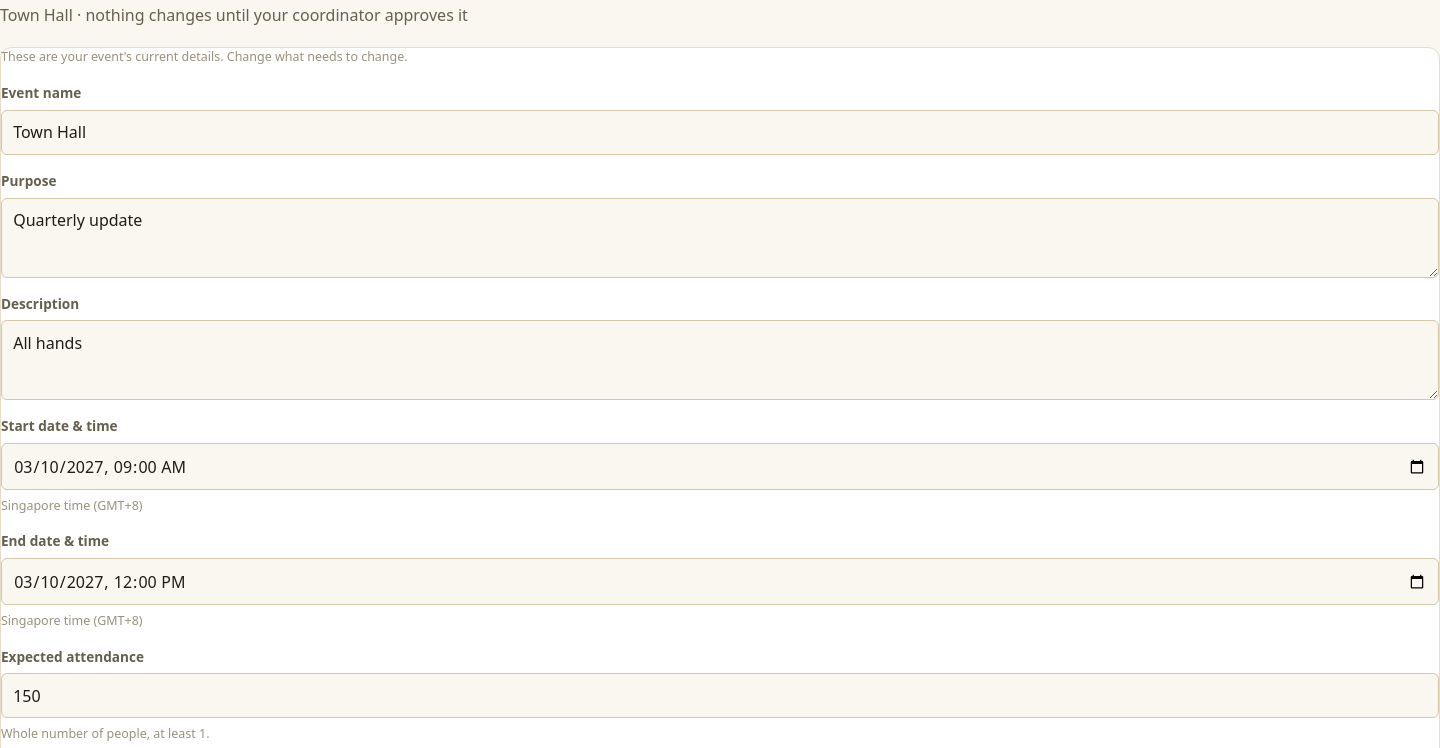
Test case: EO03 — the organiser requests a change › EO03 AC25 (happy): sending posts the full details and opens the change requests with a confirmation
The image size is (1440, 748).
Replace the text in the number field labelled "Expected attendance" with "200" at (720, 696), box x1=1 y1=673 x2=1439 y2=718
(page scrolled)
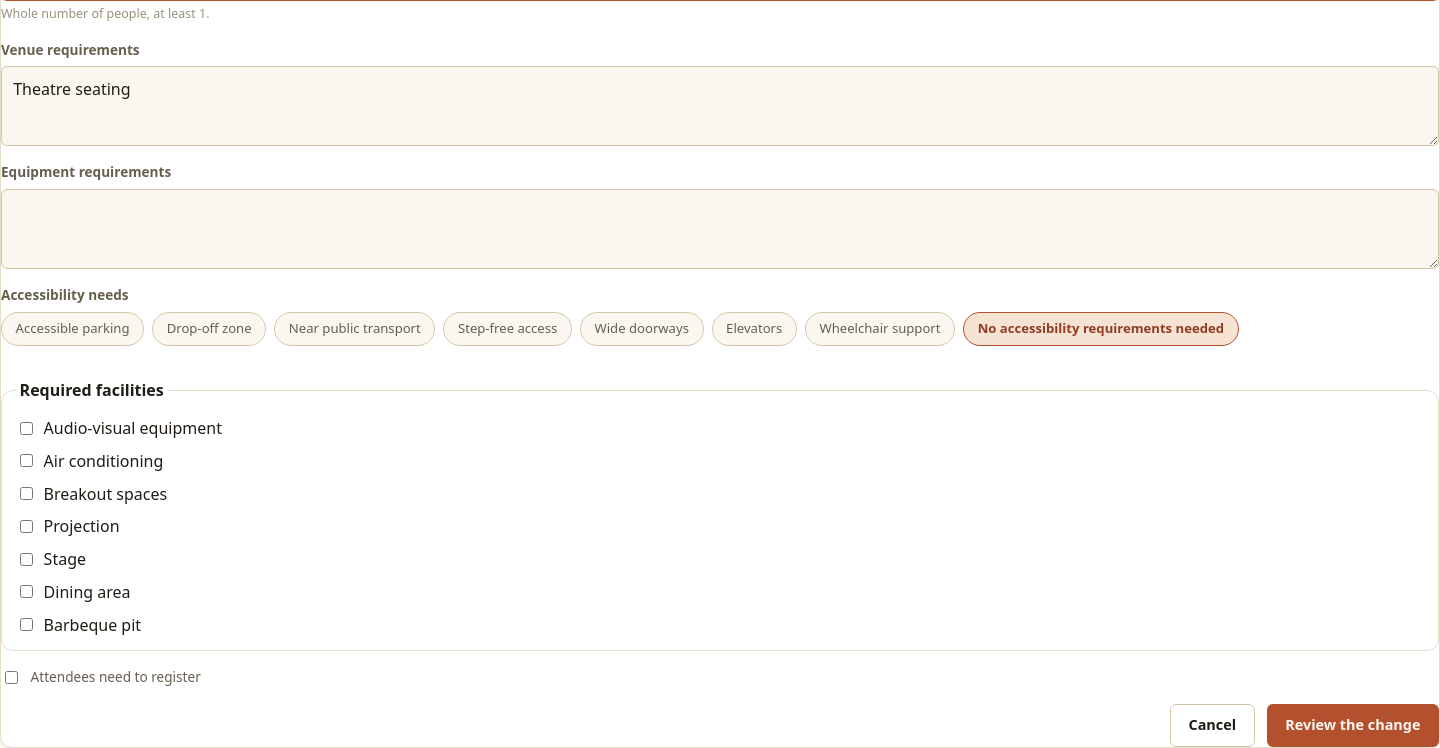
Click the button "Review the change" at (1353, 725), box x1=1267 y1=704 x2=1439 y2=747
(page scrolled)
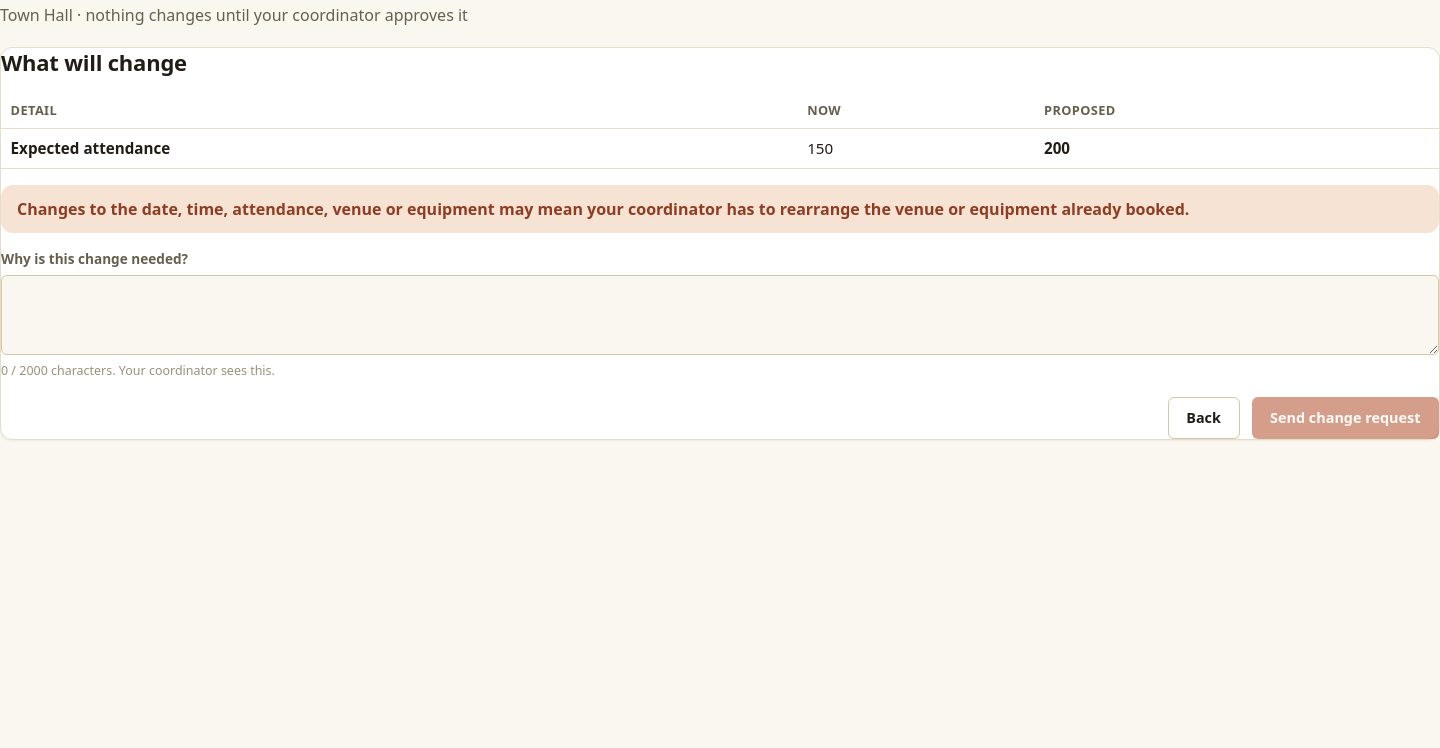
Type "More people are coming" into the text box labelled "Why is this change needed?" at (720, 316), box x1=1 y1=276 x2=1439 y2=356
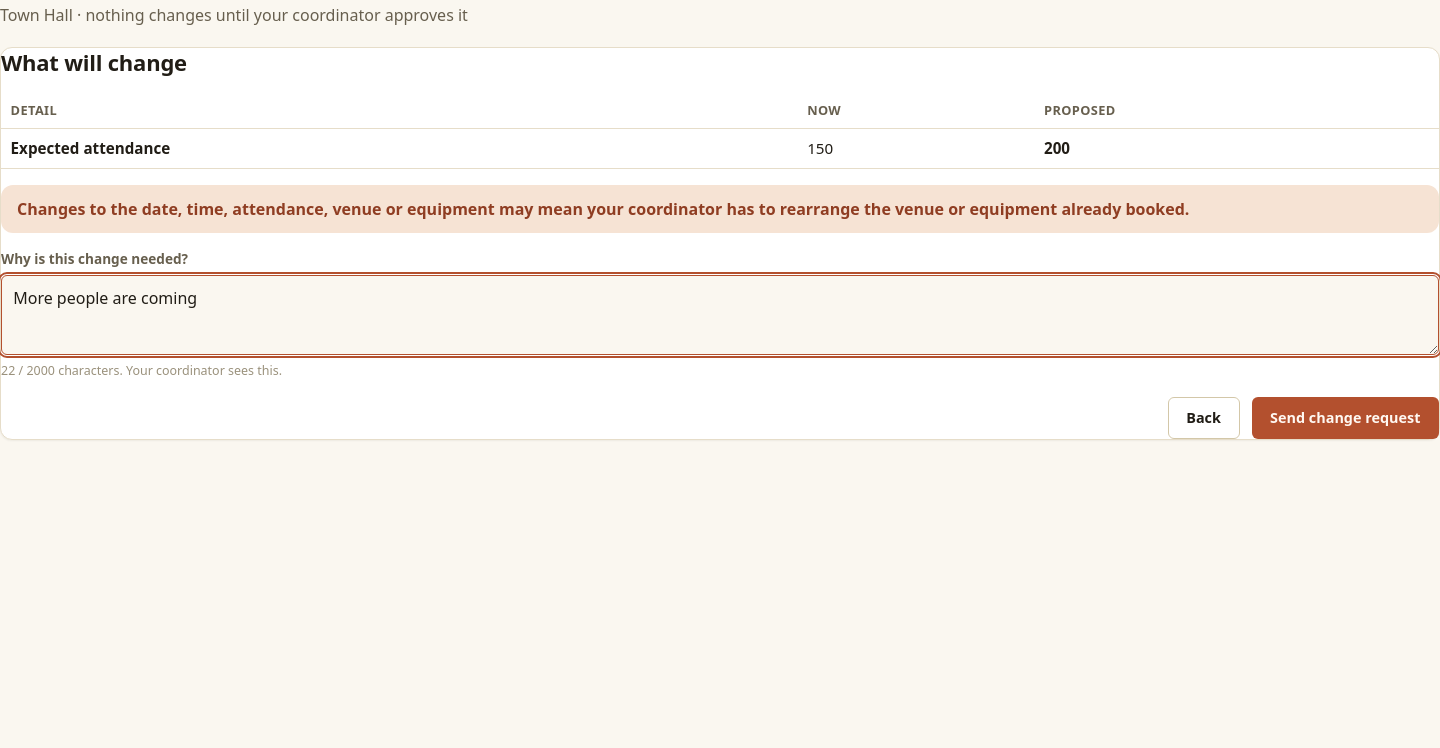
Click the button "Send change request" at (1345, 418), box x1=1252 y1=397 x2=1439 y2=439
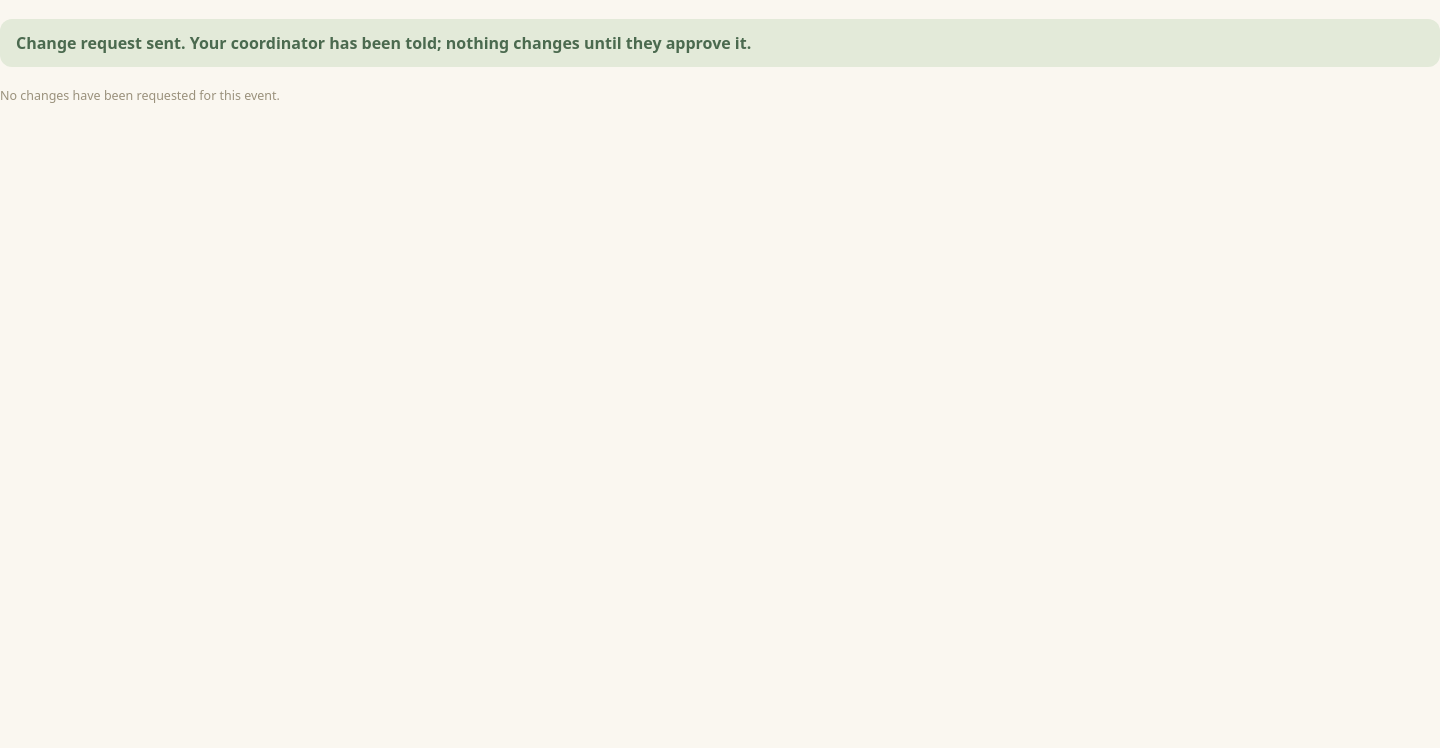
Expected: the text "Change request sent" is shown, x1=16 y1=32 x2=751 y2=54
